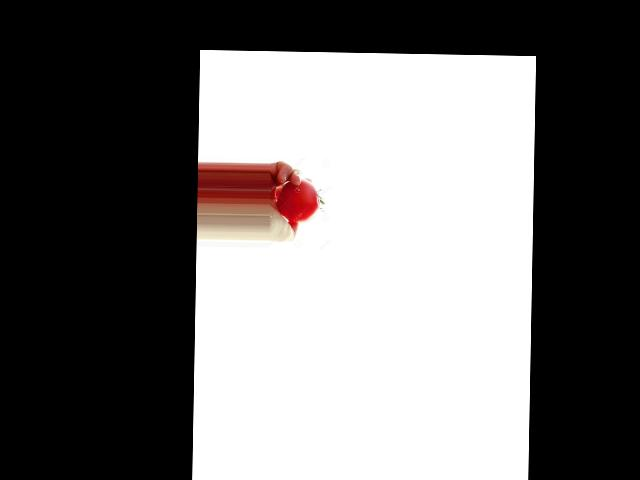tomato: (277, 177, 320, 222)
